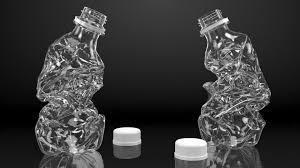Plastic: (167, 7, 276, 150), (24, 4, 111, 159), (171, 135, 215, 163), (109, 121, 149, 148)
